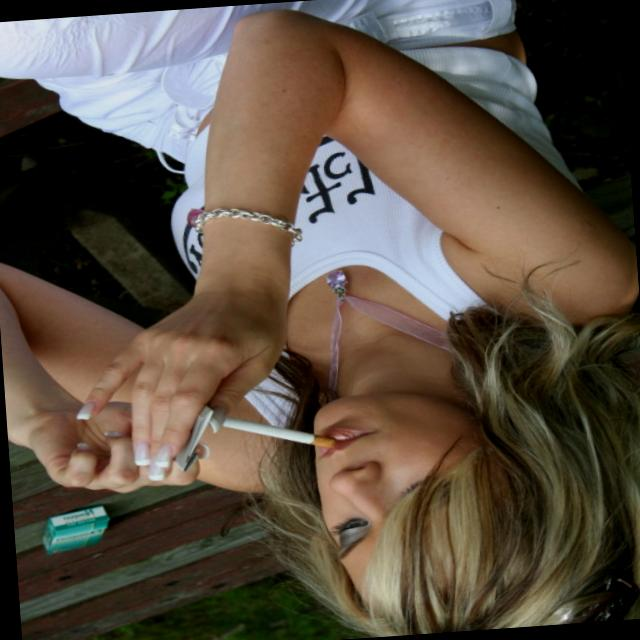cigarette: (206, 400, 344, 459)
